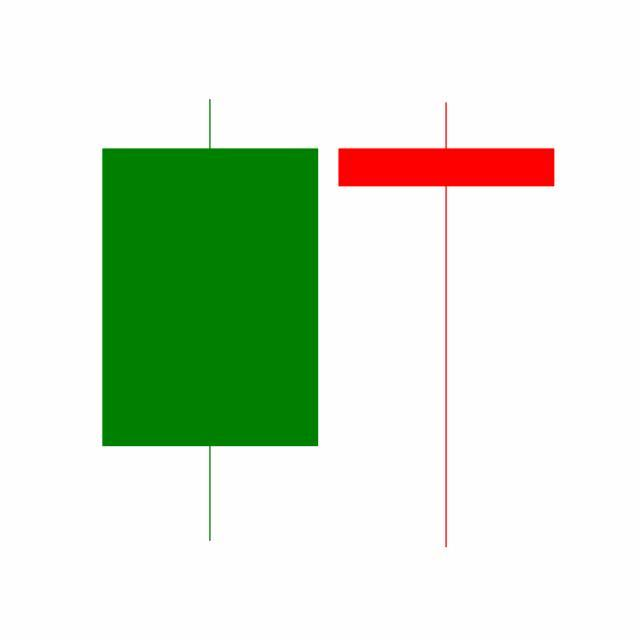Hanging Man: (328, 98, 566, 553)
